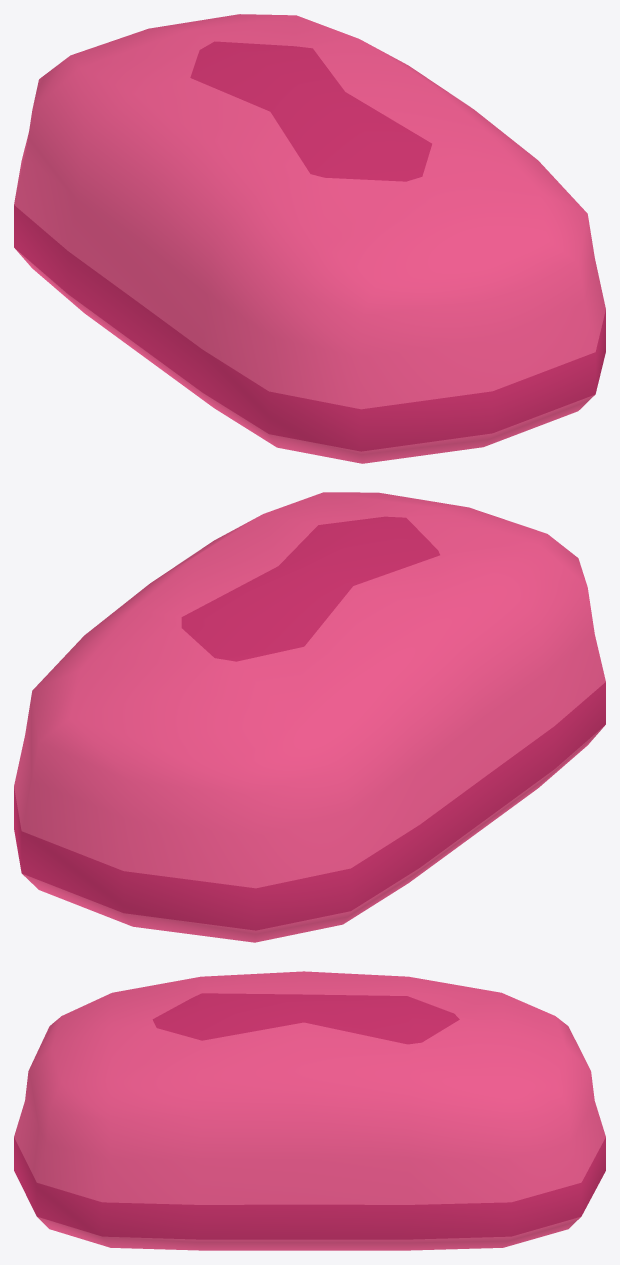
Rendered from soap.glb.
The picture shows the model from 3 angles, top to bottom: view 1: azimuth 30°, elevation 25°; view 2: azimuth 150°, elevation 25°; view 3: azimuth 270°, elevation 25°; orthographic projection. The views are drawn at different scales.
Visible parts, largest first — view 1: Cube; view 2: Cube; view 3: Cube.
Part boxes in pixels (x1,y1,x2,y2): Cube: (14, 14, 605, 463); Cube: (14, 492, 605, 942); Cube: (14, 971, 605, 1250).
Bounding box in the file's own units: 2.75 × 1.78 × 5.
1 material, 1 textured.
